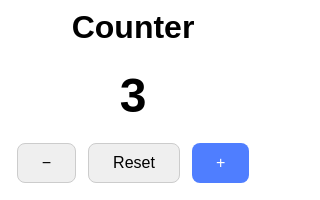
it: Counter › decrements count when − button is clicked
Click the button with test id "decrement" at (46, 163), box [17,143,76,183]
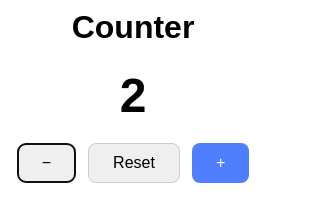
Check: the text with test id "count" reads "2", box [120,69,146,122]
